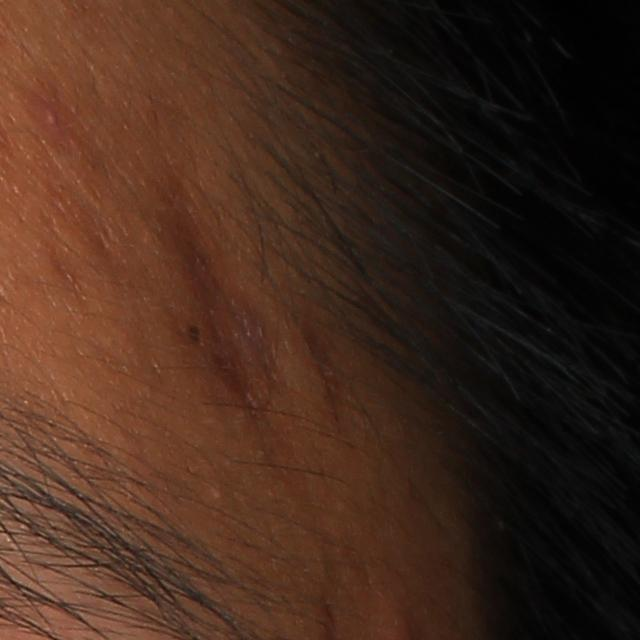comedo: (210, 485, 225, 501)
